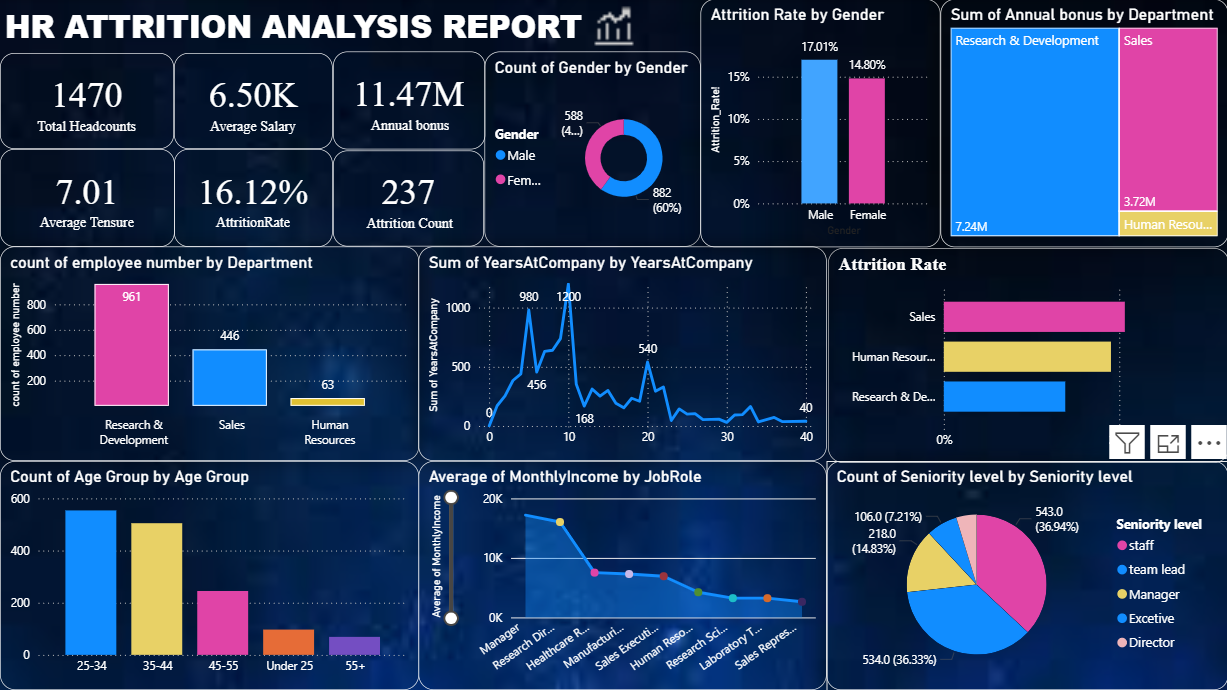

This screenshot's page, from the dashboard's own definition file:
{"tool":"powerbi","page":{"name":"Page 2","canvas":[1280,720],"ordinal":0},"visuals":[{"type":"columnChart","fields":{"Category":["HR_Data.Department"],"Y":["Sum(HR_Data.EmployeeCount)"]},"box":[0,258.3,436.7,223.3],"z":0},{"type":"clusteredBarChart","title":"Attrition Rate ","fields":{"Category":["HR_Data.Department"],"Y":["HR_Data.Attrition_Rate!"]},"box":[862.1,259.3,418.3,224.3],"z":1000},{"type":"lineClusteredColumnComboChart","fields":{"Category":["HR_Data.Age Group"],"Y":["CountNonNull(HR_Data.Age Group)"]},"box":[0,481.7,436.7,238.3],"z":2000},{"type":"donutChart","fields":{"Category":["HR_Data.Gender"],"Y":["CountNonNull(HR_Data.Gender)"]},"box":[505,55,225,203.3],"z":3000},{"type":"lineChart","fields":{"Y":["Sum(HR_Data.YearsAtCompany)"],"Category":["HR_Data.YearsAtCompany"]},"box":[436.7,258.3,425,223.3],"z":4000},{"type":"stackedAreaChart","fields":{"Category":["HR_Data.JobRole"],"Y":["Avg(HR_Data.MonthlyIncome)"]},"box":[436.7,481.7,425,238.3],"z":5000},{"type":"clusteredColumnChart","title":"Attrition Rate by Gender","fields":{"Category":["HR_Data.Gender"],"Y":["HR_Data.Attrition_Rate!"]},"box":[730,0,250,258.3],"z":6000},{"type":"pieChart","fields":{"Category":["HR_Data.Seniority level"],"Y":["CountNonNull(HR_Data.Seniority level)"]},"box":[861.1,481.5,418.5,238.9],"z":7000},{"type":"treemap","fields":{"Values":["Sum(HR_Data.Annual bonus)"],"Group":["HR_Data.Department"]},"box":[980,0,300,258.3],"z":8000},{"type":"textbox","box":[0,0,640,55],"z":9000},{"type":"card","fields":{"Values":["CountNonNull(HR_Data.EmployeeNumber)"]},"box":[0,55.7,181.3,100.2],"z":10000},{"type":"card","fields":{"Values":["Avg(HR_Data.MonthlyIncome)"]},"box":[181.3,55.7,165.4,100.2],"z":11000},{"type":"card","fields":{"Values":["Avg(HR_Data.YearsAtCompany)"]},"box":[0,156.7,181.7,101.7],"z":12000},{"type":"card","fields":{"Values":["HR_Data.Attrition_Rate!"]},"box":[181.7,156.7,165,101.7],"z":13000},{"type":"card","fields":{"Values":["Sum(HR_Data.Annual bonus)"]},"box":[346.7,55,158.3,101.7],"z":14000},{"type":"card","fields":{"Values":["Sum(HR_Data.Attrition)"]},"box":[346.8,157.5,157.5,100.2],"z":15000},{"type":"image","box":[606,0,66.8,55.7],"z":16000}]}

Visuals, with their boxes in screenshot pixels (x1, y1, x2, y2), scaled from the page's 1280x720 canvas onto the 1227x690 screenshot:
columnChart - HR_Data.Department x Sum(HR_Data.EmployeeCount): <region>0, 248, 419, 462</region>
"Attrition Rate " clusteredBarChart: <region>826, 248, 1226, 463</region>
lineClusteredColumnComboChart - HR_Data.Age Group x CountNonNull(HR_Data.Age Group): <region>0, 462, 419, 689</region>
donutChart - HR_Data.Gender x CountNonNull(HR_Data.Gender): <region>484, 53, 700, 248</region>
lineChart - Sum(HR_Data.YearsAtCompany) x HR_Data.YearsAtCompany: <region>419, 248, 826, 462</region>
stackedAreaChart - HR_Data.JobRole x Avg(HR_Data.MonthlyIncome): <region>419, 462, 826, 689</region>
"Attrition Rate by Gender" clusteredColumnChart: <region>700, 0, 939, 248</region>
pieChart - HR_Data.Seniority level x CountNonNull(HR_Data.Seniority level): <region>825, 461, 1226, 689</region>
treemap - Sum(HR_Data.Annual bonus) x HR_Data.Department: <region>939, 0, 1226, 248</region>
textbox: <region>0, 0, 614, 53</region>
card - CountNonNull(HR_Data.EmployeeNumber): <region>0, 53, 174, 149</region>
card - Avg(HR_Data.MonthlyIncome): <region>174, 53, 332, 149</region>
card - Avg(HR_Data.YearsAtCompany): <region>0, 150, 174, 248</region>
card - HR_Data.Attrition_Rate!: <region>174, 150, 332, 248</region>
card - Sum(HR_Data.Annual bonus): <region>332, 53, 484, 150</region>
card - Sum(HR_Data.Attrition): <region>332, 151, 483, 247</region>
image: <region>581, 0, 645, 53</region>
